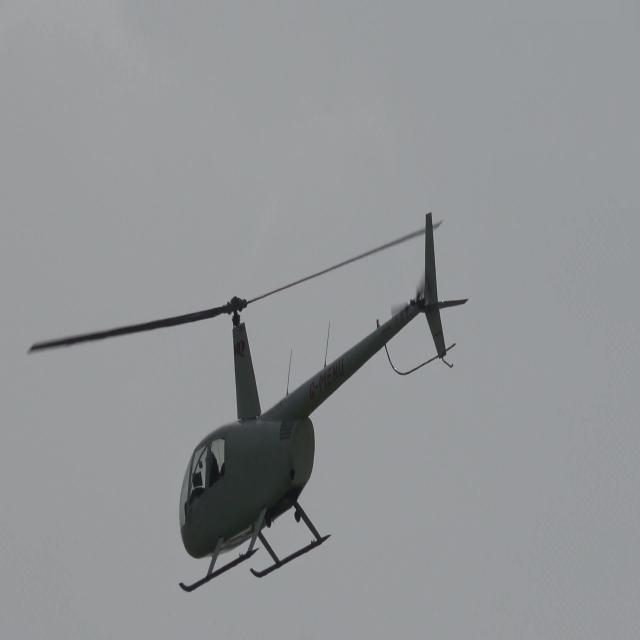CIV_HELO: (172, 209, 469, 594)
